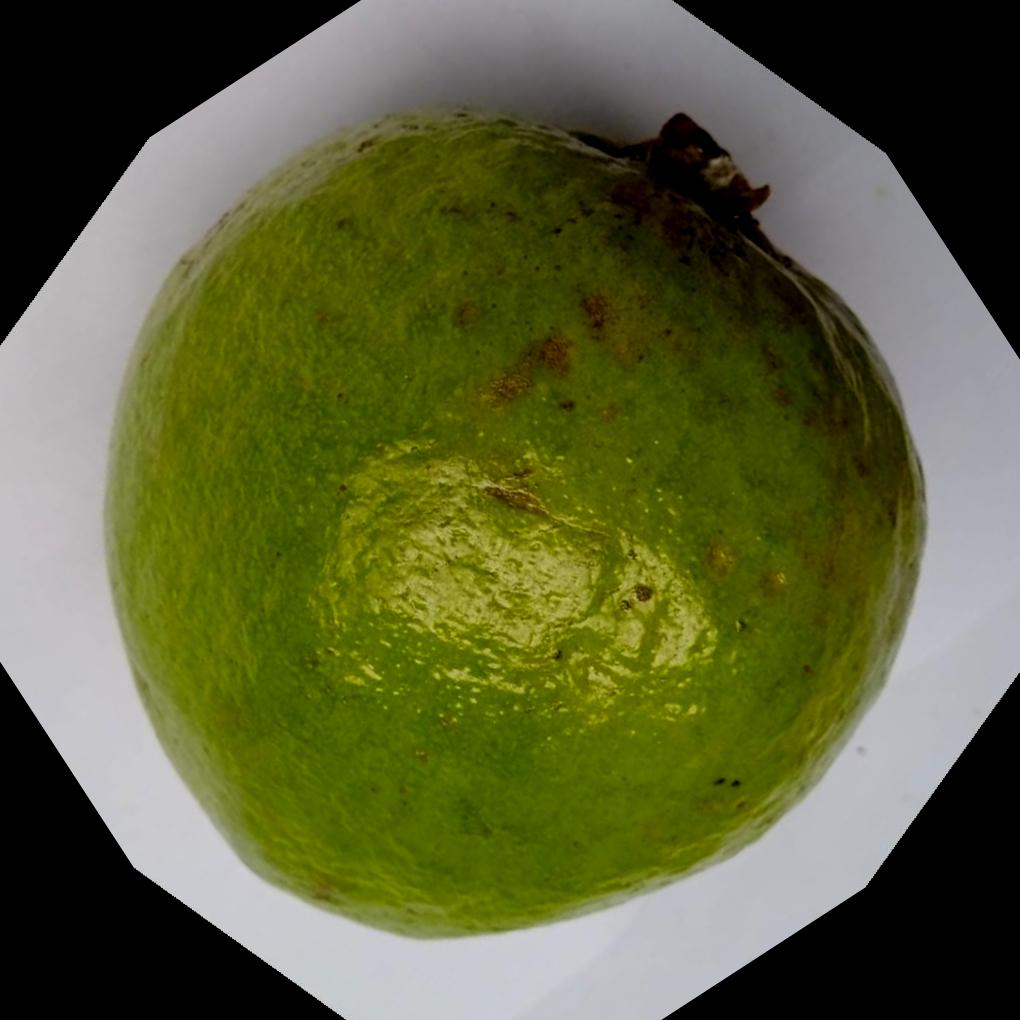FreshGuava: (101, 102, 934, 940)
